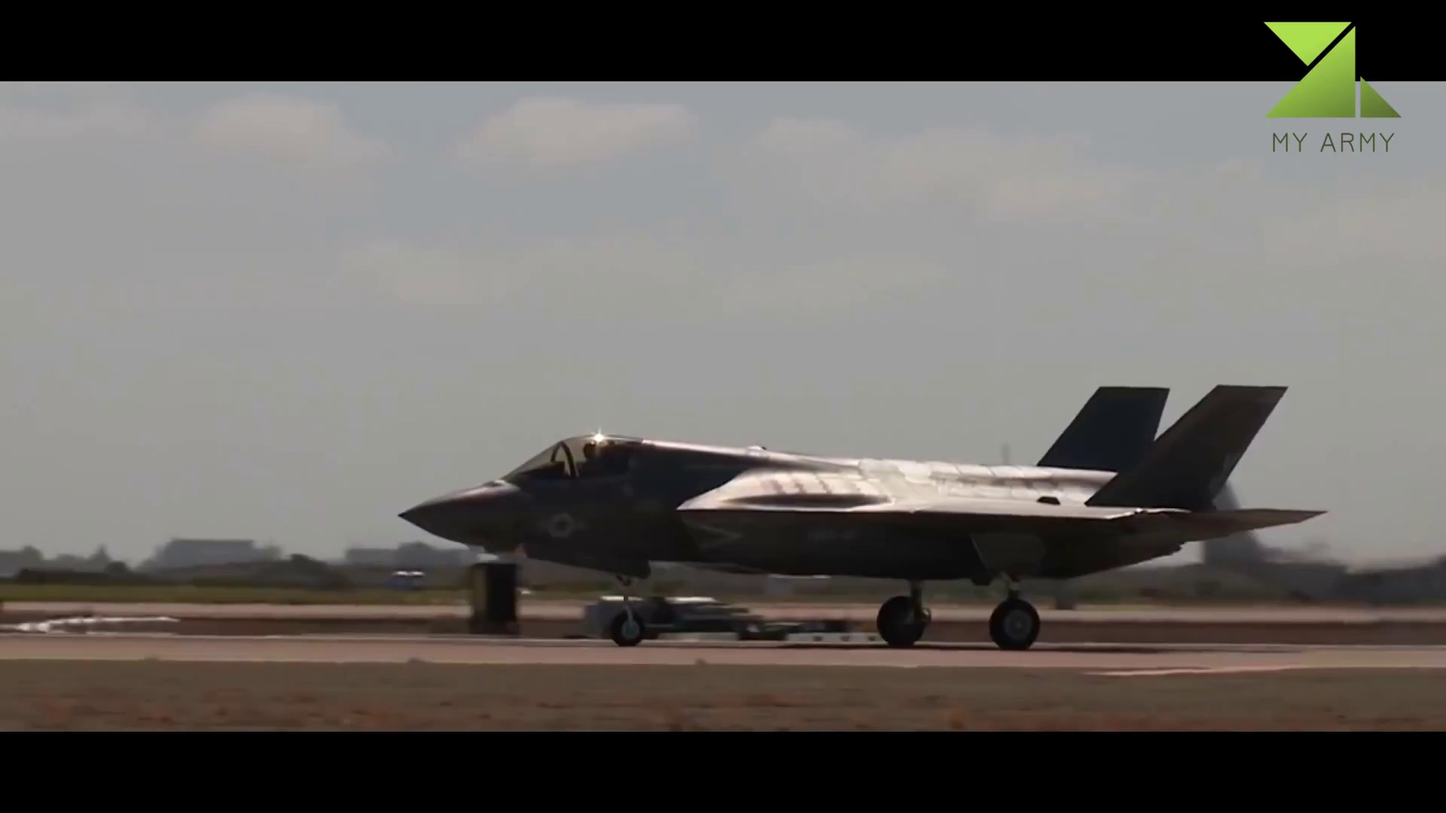F35: (394, 385, 1330, 650)
